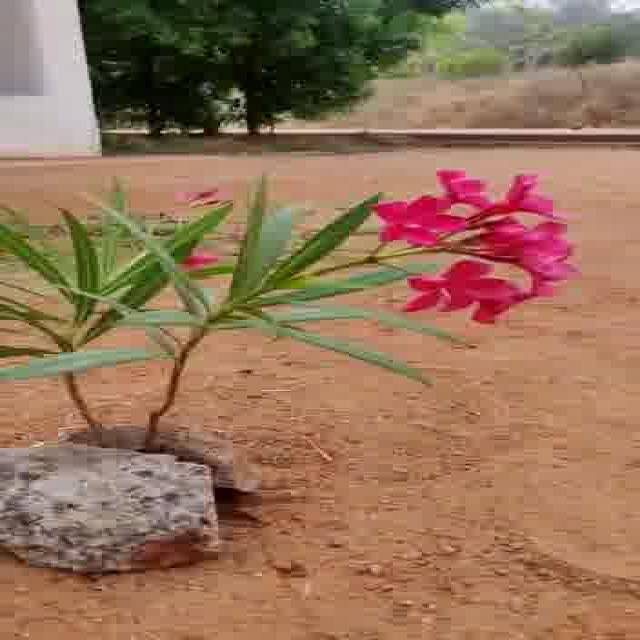Oleander: (0, 161, 589, 427)
